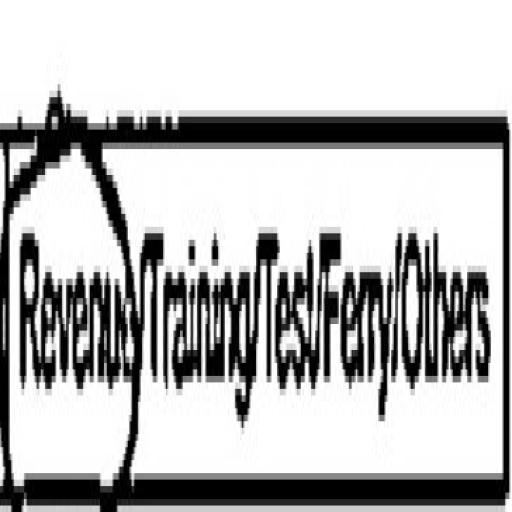check: (0, 14, 135, 512)
